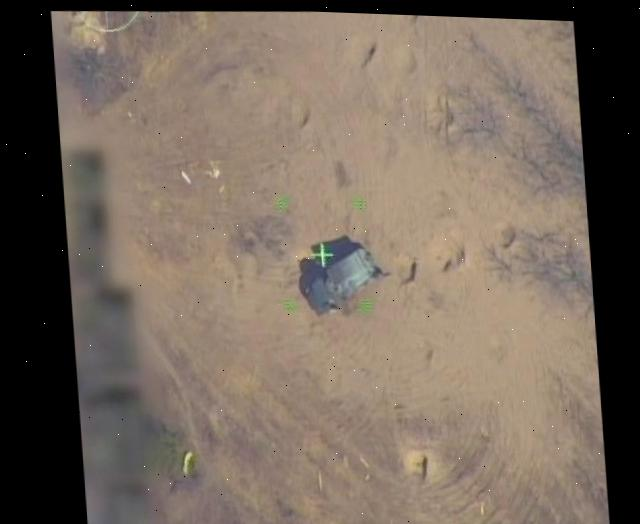rszo: (300, 242, 378, 319)
